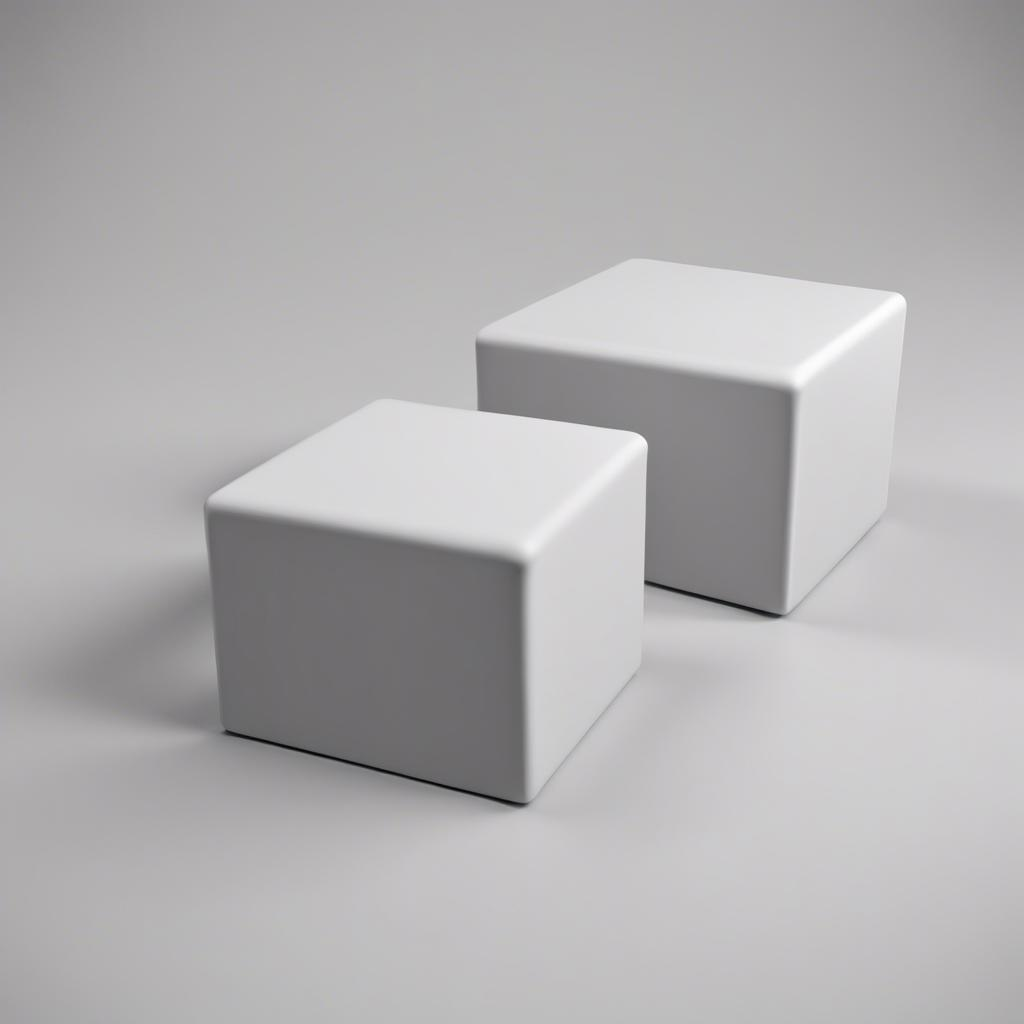cube: (202, 395, 648, 805), (474, 255, 906, 617)
